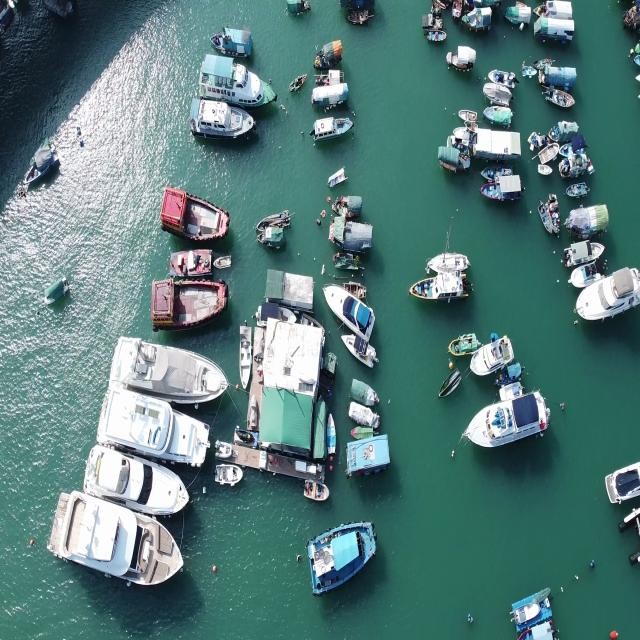ship: (55, 490, 183, 584), (101, 390, 205, 470), (108, 337, 227, 406), (82, 449, 190, 515), (304, 520, 378, 599), (157, 185, 230, 242), (196, 54, 278, 104), (147, 280, 232, 326), (467, 397, 555, 436), (576, 271, 638, 325), (321, 282, 376, 342), (188, 99, 256, 137)
